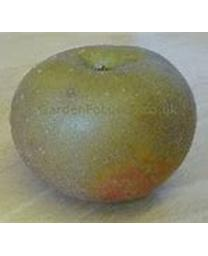apple: (10, 46, 197, 204)
